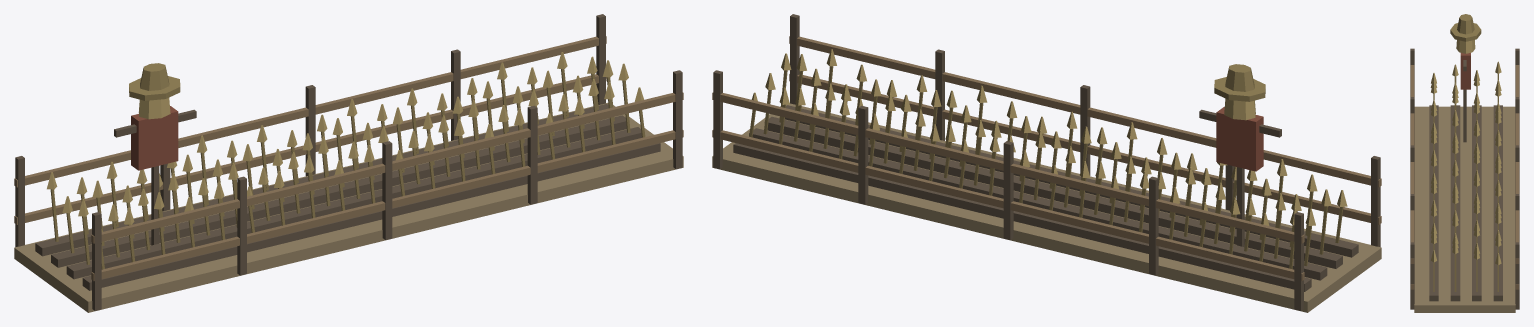
File: Town_WheatGarden.fbx
The picture shows the model from 3 angles, left to right: view 1: azimuth 30°, elevation 25°; view 2: azimuth 150°, elevation 25°; view 3: azimuth 270°, elevation 25°; orthographic projection. The views are drawn at different scales.
Parts seen in each view (by area): view 1: Town_WheatGarden; view 2: Town_WheatGarden; view 3: Town_WheatGarden.
Part boxes in pixels (box(x1,y1,x2,y2)): Town_WheatGarden: box(14, 14, 683, 312); Town_WheatGarden: box(712, 14, 1381, 312); Town_WheatGarden: box(1410, 14, 1519, 312).
Bounding box in the file's own units: 6.15 × 1.9 × 1.43.
